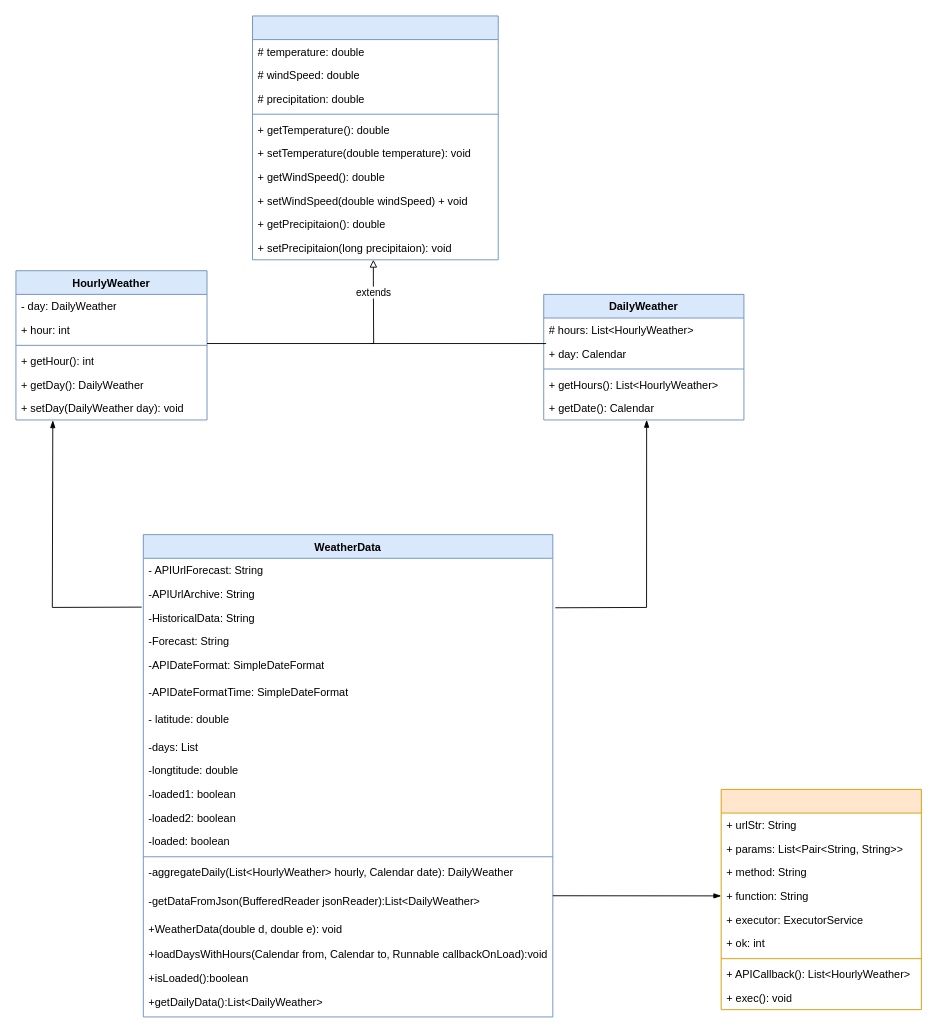
This 937x1036 diagram has some shape labels left out. The box of each missing label's shape, as (x1, y1, x2, y2) in pixels:
APIQuery: (720, 789, 921, 1010)
WeatherUnit: (252, 15, 498, 260)
